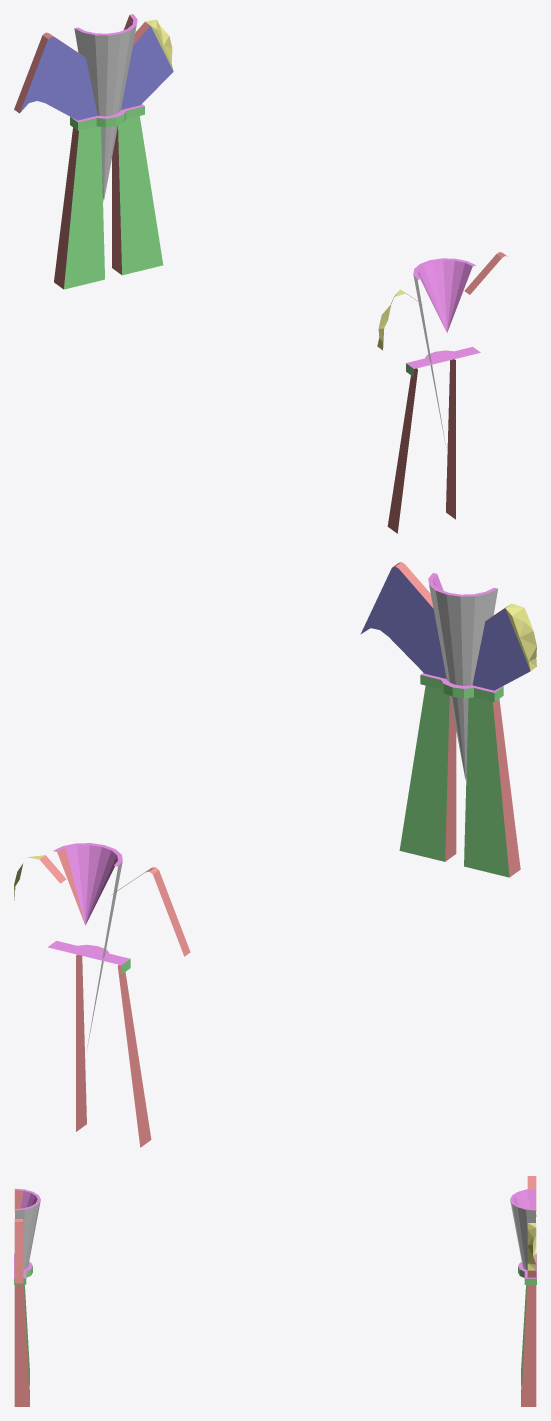
File: SSQ_hallway_Bobjset01.gltf
3 views of the same model, one above another, from view 1: azimuth 30°, elevation 25°; view 2: azimuth 150°, elevation 25°; view 3: azimuth 270°, elevation 25° (orthographic). The views are drawn at different scales.
Parts seen in each view (by area): view 1: SSQ_hallway_Bobjset01; view 2: SSQ_hallway_Bobjset01; view 3: SSQ_hallway_Bobjset01.
Part boxes in pixels (x1=…): SSQ_hallway_Bobjset01: x1=14, y1=14, x2=507, y2=533; SSQ_hallway_Bobjset01: x1=14, y1=562, x2=536, y2=1147; SSQ_hallway_Bobjset01: x1=14, y1=1176, x2=536, y2=1406.
Bounding box in the file's own units: 0.9634 × 1.29 × 3.21.
